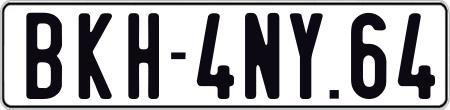4: (194, 13, 232, 101), (398, 12, 434, 99)
6: (349, 12, 387, 99)
B: (25, 11, 62, 101)
H: (128, 11, 165, 101)
K: (77, 11, 111, 101)
N: (243, 11, 281, 103)
Y: (287, 10, 326, 97)
